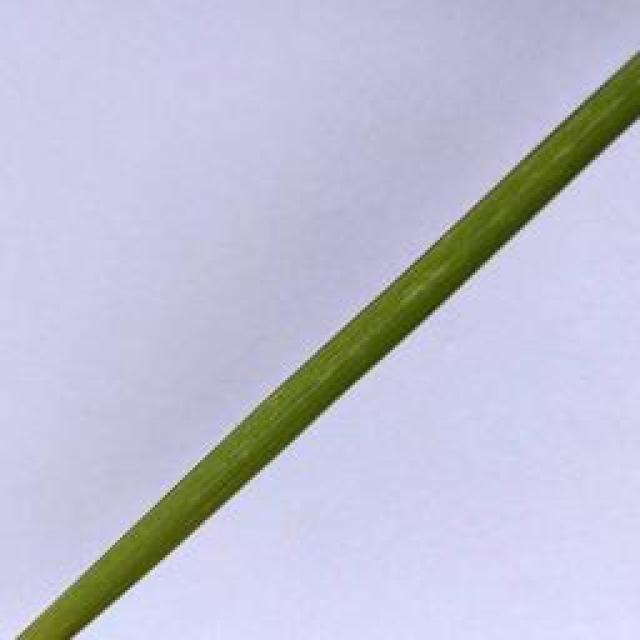Healthy-Plant: (15, 55, 640, 640)
